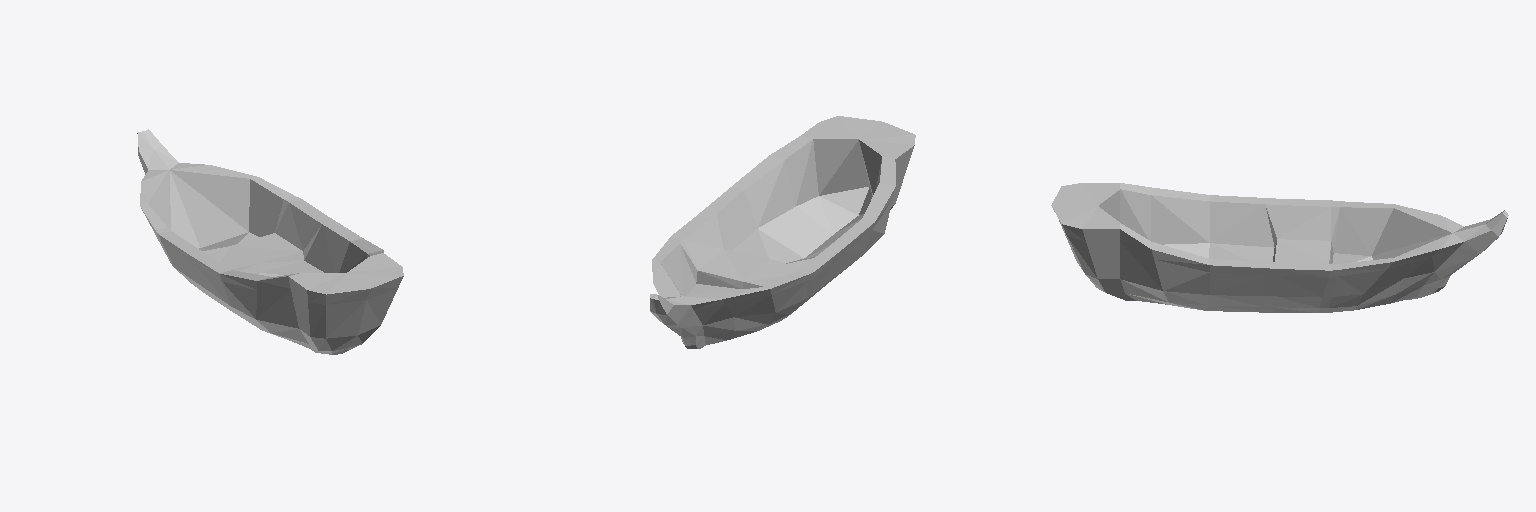
The model's file is boat.obj.
The picture shows the model from 3 angles: view 1: azimuth 30°, elevation 25°; view 2: azimuth 150°, elevation 25°; view 3: azimuth 270°, elevation 25°; orthographic projection.
Parts seen in each view (by area): view 1: Cube; view 2: Cube; view 3: Cube.
Part boxes in pixels (bbox=[...]): Cube: bbox=[137, 129, 403, 354]; Cube: bbox=[650, 116, 915, 348]; Cube: bbox=[1051, 183, 1508, 312].
Size of the model in its own units: 1.21 by 0.8126 by 3.32.